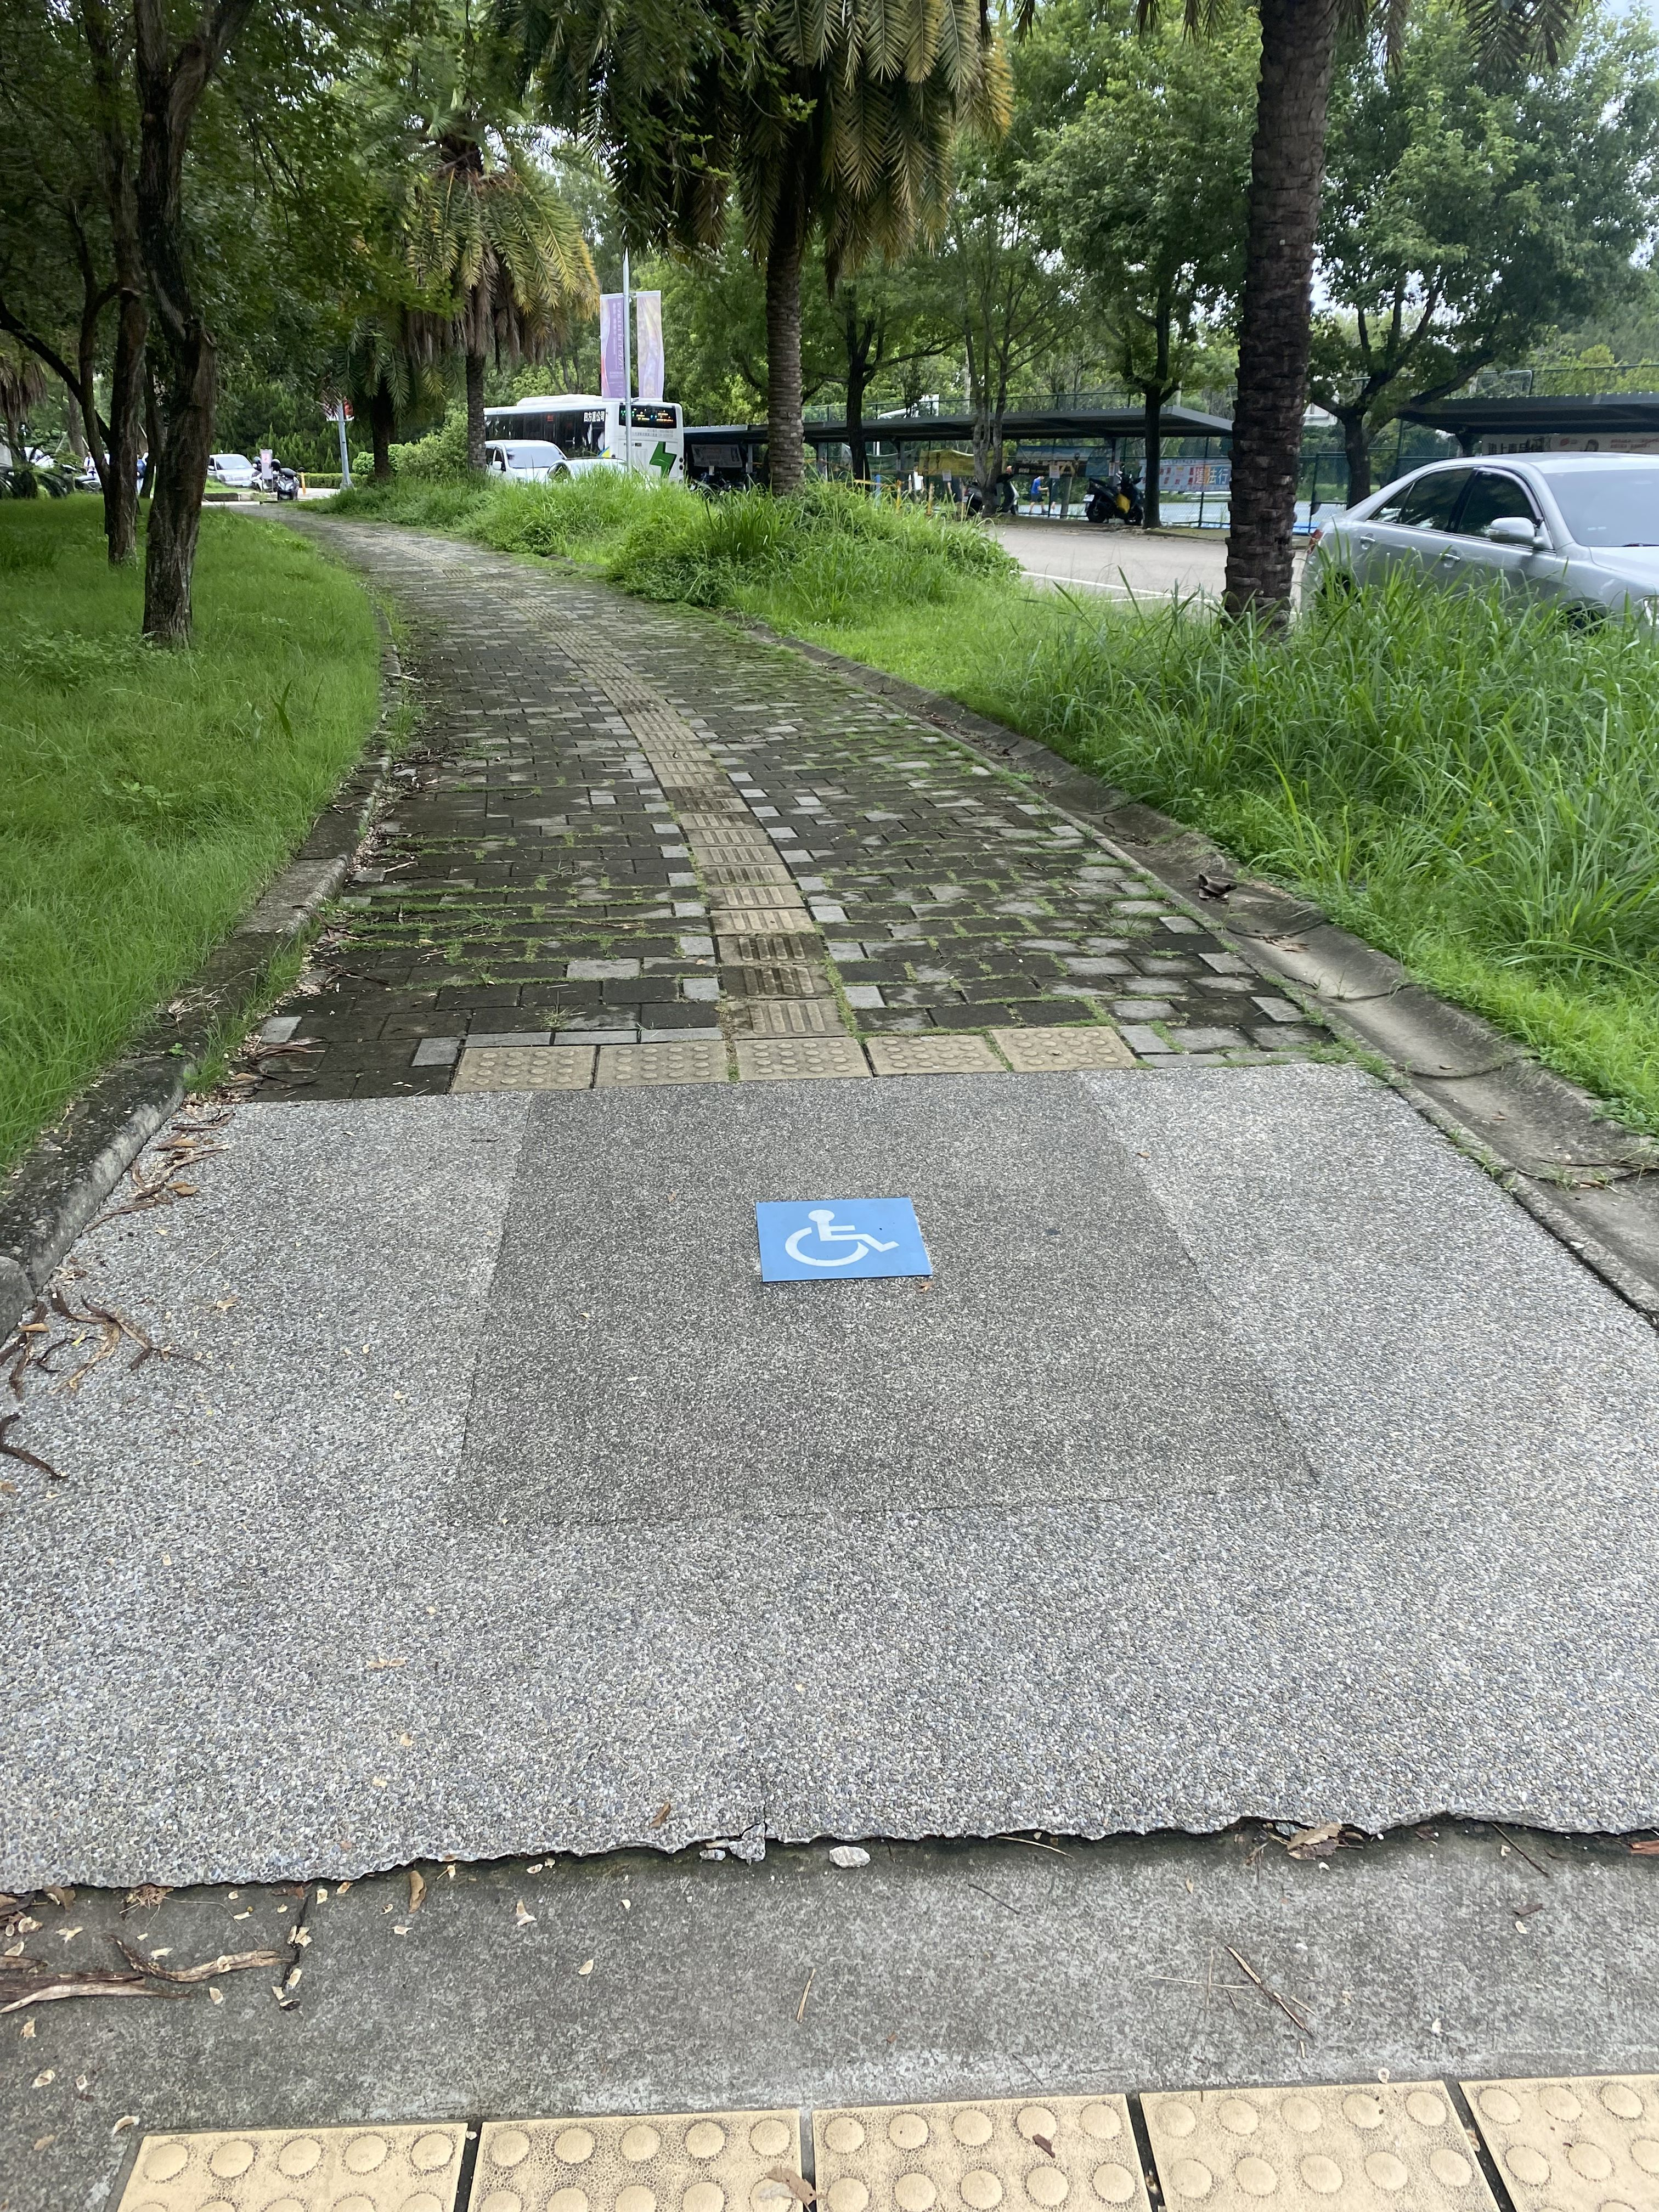sidewalk: (0, 467, 1659, 2212)
